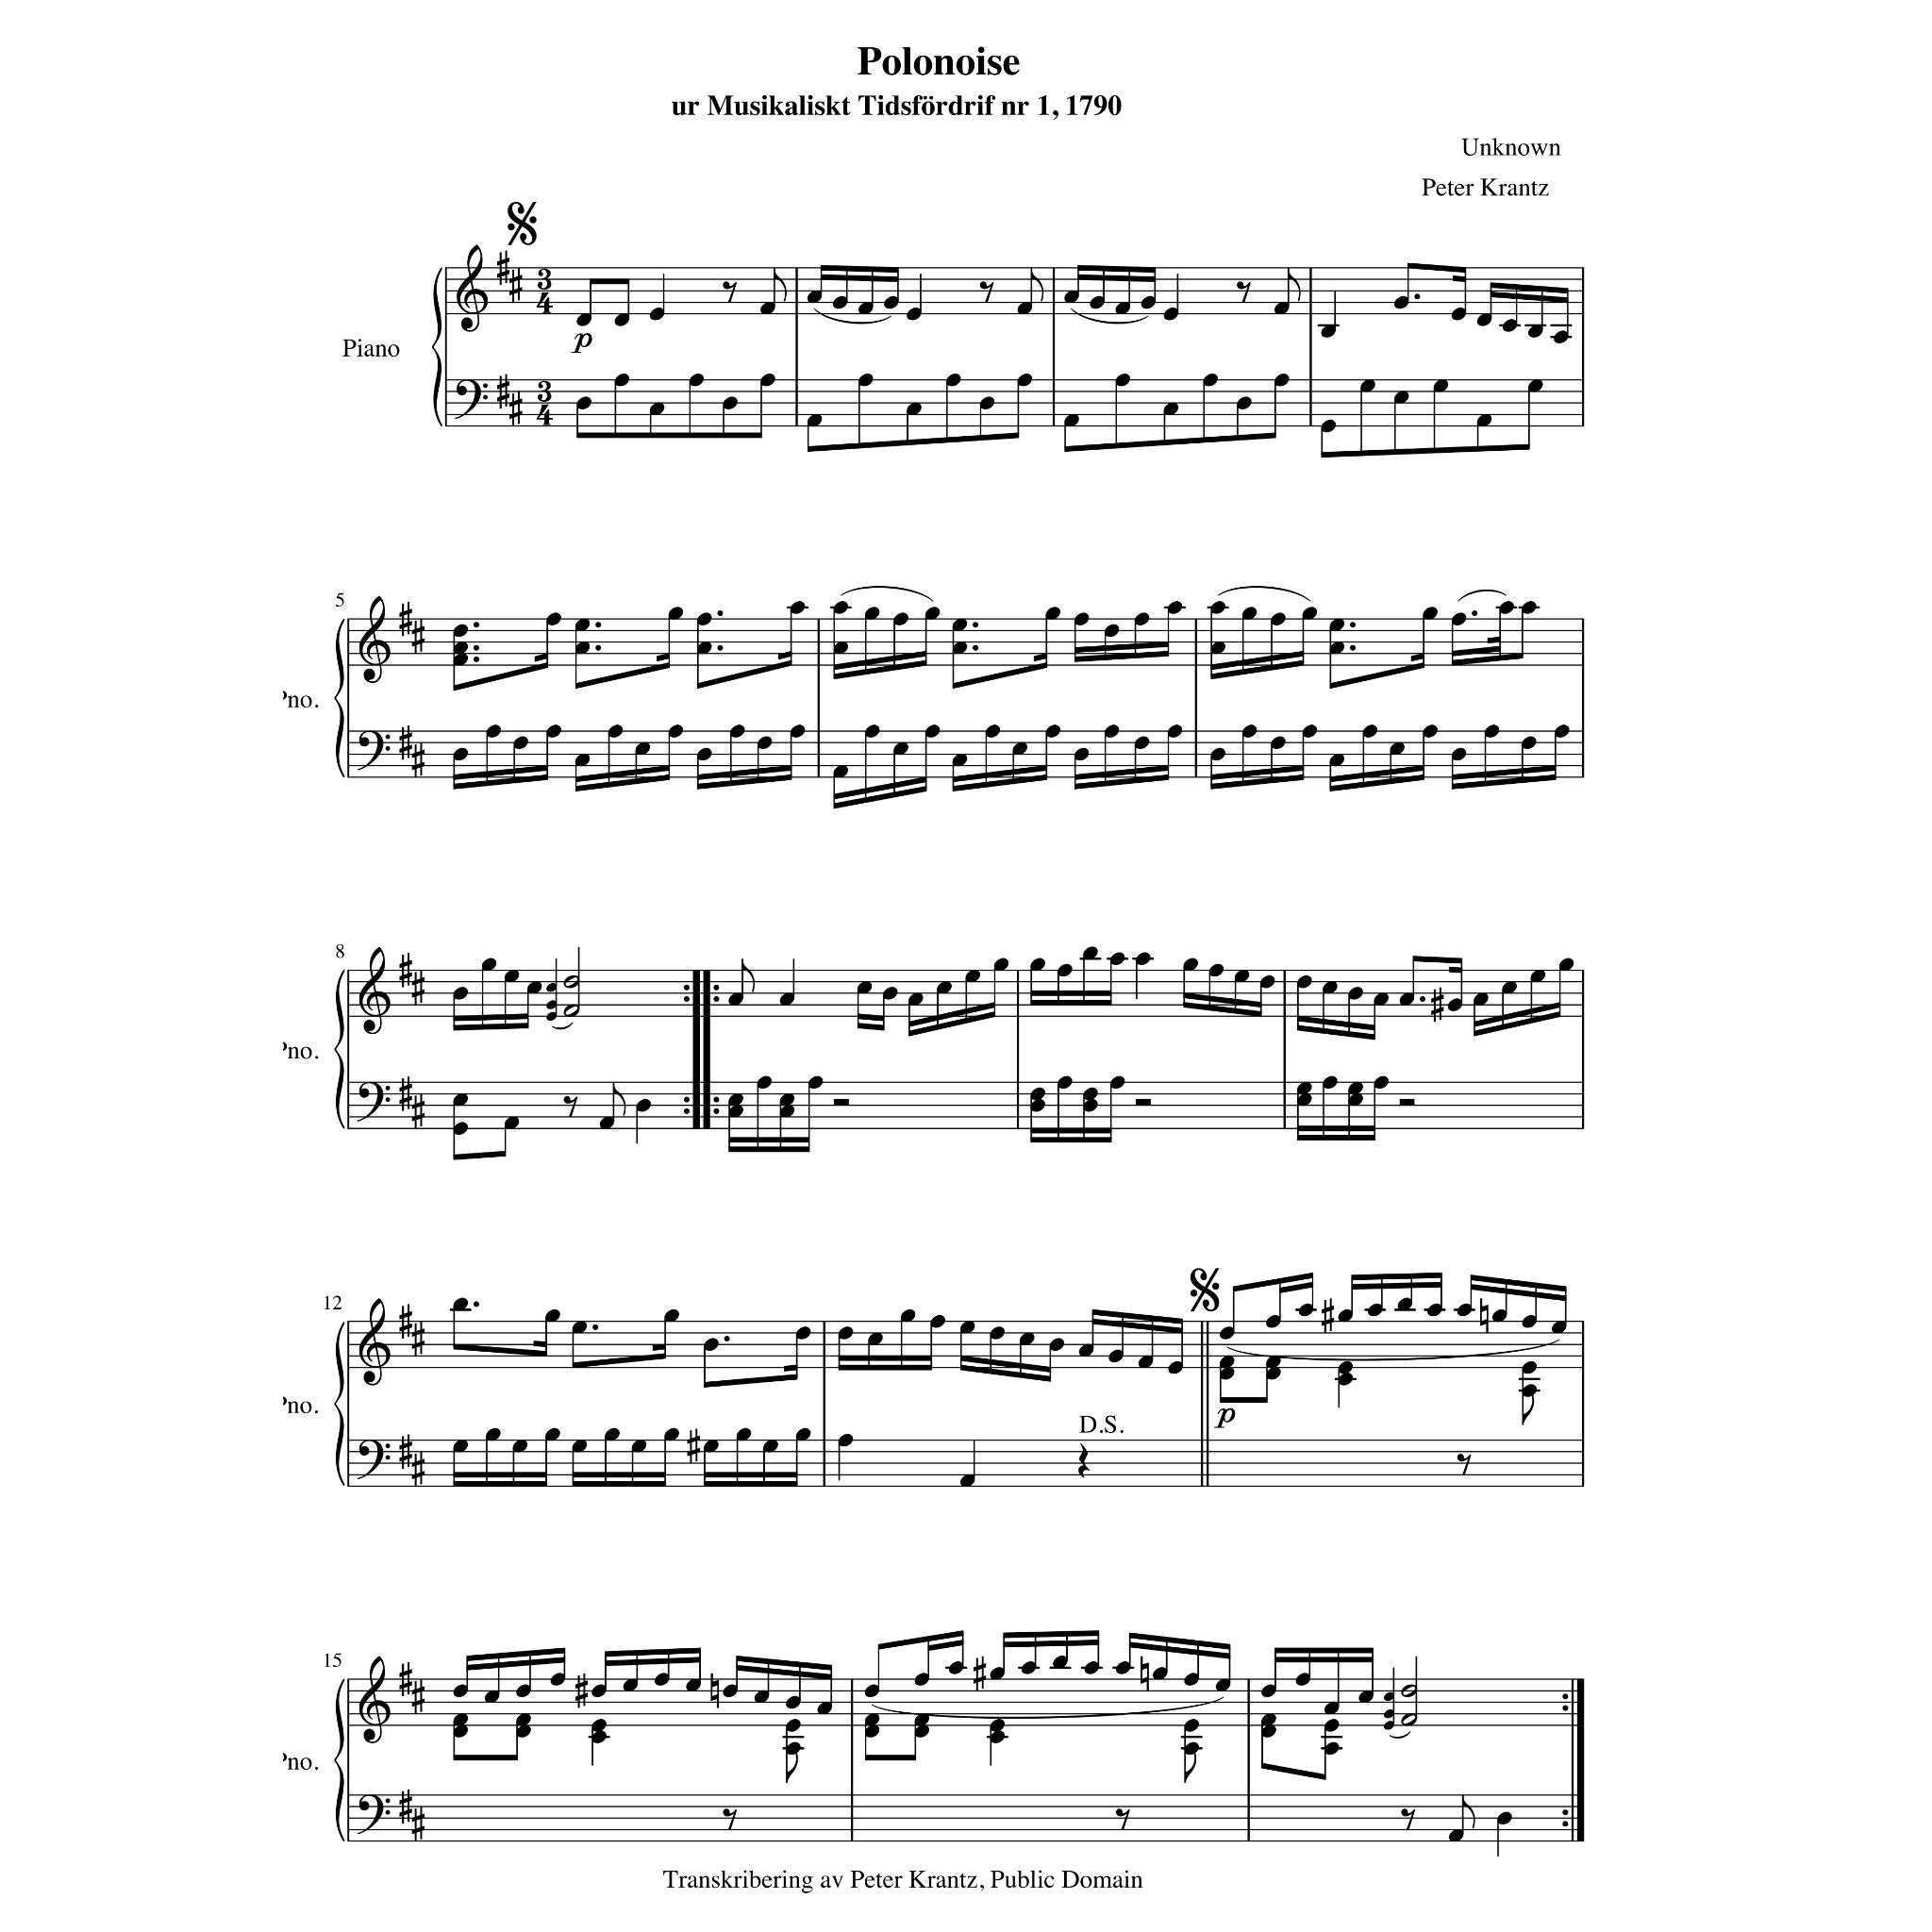brace: (333, 1322, 345, 1486), (333, 1679, 345, 1842), (333, 617, 345, 778), (333, 970, 345, 1131), (432, 267, 442, 428)
fClef: (453, 380, 488, 421), (357, 731, 391, 771), (357, 1081, 391, 1122), (357, 1438, 391, 1479), (357, 1794, 391, 1835)
flag8thDown: (1522, 1391, 1534, 1426), (1184, 1750, 1196, 1783), (786, 1750, 798, 1783)
flag8thUp: (773, 267, 787, 303), (1030, 267, 1044, 303), (741, 959, 755, 993), (1461, 1796, 1476, 1829), (1288, 267, 1300, 303), (614, 1083, 626, 1116)
gClef: (359, 594, 391, 685), (456, 244, 488, 333), (359, 947, 391, 1035), (359, 1299, 391, 1387), (359, 1656, 391, 1744)
noteheadBlack: (759, 373, 777, 387), (573, 619, 591, 633), (545, 612, 563, 626), (502, 970, 520, 984), (929, 1315, 947, 1329), (816, 1702, 833, 1716), (1274, 373, 1290, 387), (1237, 396, 1253, 410), (1203, 373, 1219, 387), (1320, 419, 1336, 433), (1090, 295, 1106, 310), (1115, 373, 1131, 387), (1139, 295, 1155, 310), (1527, 379, 1543, 393), (1502, 318, 1518, 333), (1553, 331, 1569, 345), (1392, 391, 1408, 405), (1392, 295, 1408, 310), (1361, 379, 1376, 393), (1476, 414, 1491, 428), (722, 396, 738, 410), (688, 373, 704, 387), (807, 290, 823, 304), (807, 414, 823, 428), (614, 373, 630, 387), (978, 396, 994, 410), (947, 373, 962, 387), (1063, 414, 1079, 428), (1063, 290, 1079, 304), (1017, 373, 1033, 387), (832, 295, 847, 310), (858, 373, 874, 387), (883, 295, 899, 310), (1012, 741, 1028, 755), (1270, 736, 1286, 750), (1270, 612, 1286, 626), (1240, 607, 1256, 621), (1302, 607, 1318, 621), (1074, 612, 1090, 626), (1046, 607, 1062, 621), (1134, 736, 1150, 750), (1134, 612, 1150, 626), (1520, 736, 1536, 750), (1389, 741, 1405, 755), (1329, 619, 1345, 633), (1451, 612, 1467, 626), (1422, 607, 1438, 621), (635, 741, 651, 755), (695, 612, 711, 626), (667, 607, 683, 621), (513, 736, 529, 750), (924, 607, 939, 621), (893, 741, 909, 755), (893, 612, 909, 626), (863, 607, 879, 621), (952, 619, 968, 633), (833, 764, 849, 778), (755, 736, 771, 750), (1233, 970, 1249, 984), (1260, 975, 1276, 989), (1182, 957, 1198, 971), (1295, 975, 1311, 989), (1083, 1099, 1099, 1113), (1083, 947, 1099, 961), (1056, 1076, 1072, 1090), (1109, 1076, 1125, 1090), (1530, 970, 1546, 984), (1559, 957, 1575, 971), (1348, 985, 1364, 1000), (1322, 1076, 1338, 1090), (1373, 1076, 1389, 1090), (635, 1099, 651, 1113), (453, 985, 469, 1000), (481, 957, 497, 971), (964, 970, 980, 984), (881, 985, 897, 1000), (1030, 1099, 1046, 1113), (1030, 957, 1046, 971), (993, 957, 1008, 971), (778, 1104, 794, 1118), (755, 1076, 771, 1090), (807, 1076, 823, 1090), (1219, 1355, 1235, 1369), (1265, 1355, 1281, 1369), (1265, 1315, 1281, 1329), (1049, 1338, 1065, 1352), (1168, 1361, 1184, 1375), (1138, 1355, 1154, 1369), (1552, 1320, 1568, 1334), (1522, 1361, 1537, 1375), (1522, 1384, 1537, 1398), (1522, 1315, 1537, 1329), (1396, 1297, 1412, 1311), (1338, 1361, 1353, 1375), (1338, 1309, 1353, 1323), (1491, 1309, 1507, 1323), (571, 1320, 587, 1334), (545, 1428, 561, 1442), (663, 1428, 679, 1442), (545, 1309, 561, 1323), (663, 1309, 679, 1323), (453, 1297, 469, 1311), (485, 1428, 501, 1442), (837, 1433, 853, 1447), (961, 1474, 977, 1488), (961, 1320, 977, 1334), (899, 1309, 915, 1323), (736, 1428, 752, 1442), (794, 1428, 810, 1442), (1184, 1718, 1200, 1732), (1184, 1741, 1200, 1755), (1184, 1672, 1200, 1686), (1152, 1667, 1168, 1681), (1260, 1713, 1276, 1727), (1021, 1661, 1037, 1675), (989, 1718, 1005, 1732), (989, 1730, 1005, 1744), (989, 1667, 1005, 1681), (948, 1661, 964, 1675), (1083, 1661, 1099, 1675), (1115, 1661, 1131, 1675), (1497, 1810, 1513, 1824), (1323, 1718, 1339, 1732), (1323, 1741, 1339, 1755), (1323, 1702, 1339, 1716), (1295, 1672, 1311, 1686), (591, 1718, 607, 1732), (591, 1730, 607, 1744), (550, 1672, 566, 1686), (653, 1672, 669, 1686), (515, 1713, 531, 1727), (453, 1713, 469, 1727), (913, 1672, 929, 1686), (863, 1713, 879, 1727), (913, 1713, 929, 1727), (784, 1718, 800, 1732), (784, 1741, 800, 1755), (759, 303, 777, 315), (1483, 725, 1500, 738), (573, 754, 591, 766), (573, 642, 591, 655), (545, 725, 563, 738), (1398, 993, 1415, 1005), (502, 1116, 520, 1129), (630, 1440, 648, 1453), (1214, 1679, 1231, 1691), (1433, 379, 1447, 393), (577, 396, 591, 410), (1447, 998, 1461, 1012), (729, 1104, 743, 1118), (605, 1428, 619, 1442), (704, 1338, 718, 1352), (1274, 303, 1290, 315), (1320, 326, 1336, 338), (1115, 303, 1131, 315), (1162, 403, 1178, 416), (1162, 308, 1178, 320), (1527, 326, 1543, 338), (1476, 313, 1491, 326), (1451, 308, 1467, 320), (649, 403, 665, 416), (614, 313, 630, 326), (649, 308, 665, 320), (906, 403, 922, 416), (906, 308, 922, 320), (1017, 303, 1033, 315), (858, 303, 874, 315), (1302, 725, 1318, 738), (1210, 748, 1226, 761), (1210, 602, 1226, 614), (1210, 642, 1226, 655), (1240, 725, 1256, 738), (1104, 625, 1120, 637), (1074, 748, 1090, 761), (1104, 725, 1120, 738), (1046, 725, 1062, 738), (1166, 725, 1182, 738), (1166, 602, 1182, 614), (1553, 725, 1569, 738), (1520, 602, 1536, 614), (1499, 602, 1514, 614), (1362, 725, 1378, 738), (1329, 754, 1345, 766), (1329, 642, 1345, 655), (1451, 748, 1467, 761), (1422, 725, 1438, 738), (607, 725, 623, 738), (729, 725, 745, 738), (695, 748, 711, 761), (695, 642, 711, 655), (667, 725, 683, 738), (453, 748, 469, 761), (453, 625, 469, 637), (453, 642, 469, 655), (453, 653, 469, 665), (485, 725, 501, 738), (924, 725, 939, 738), (863, 725, 879, 738), (984, 725, 1000, 738), (952, 754, 968, 766), (952, 642, 968, 655), (833, 602, 849, 614), (833, 642, 849, 655), (789, 725, 805, 738), (789, 602, 805, 614), (1208, 964, 1224, 977), (1295, 1083, 1311, 1095), (1295, 1093, 1311, 1106), (1083, 1088, 1099, 1100), (1056, 964, 1072, 977), (1134, 954, 1150, 966), (1109, 954, 1125, 966), (1502, 982, 1518, 994), (1474, 993, 1490, 1005), (1348, 1083, 1364, 1095), (1348, 1093, 1364, 1106), (1322, 982, 1338, 994), (1373, 993, 1389, 1005), (598, 1116, 614, 1129), (525, 982, 541, 994), (453, 1122, 469, 1134), (453, 1093, 469, 1106), (908, 993, 924, 1005), (936, 982, 952, 994), (856, 982, 872, 994), (1030, 1088, 1046, 1100), (778, 1093, 794, 1106), (778, 993, 794, 1005), (1219, 1368, 1235, 1380), (1219, 1327, 1235, 1339), (1297, 1304, 1313, 1316), (1265, 1368, 1281, 1380), (1077, 1345, 1093, 1357), (989, 1327, 1005, 1339), (1108, 1350, 1123, 1362), (1366, 1304, 1382, 1316), (1338, 1373, 1353, 1385), (1456, 1304, 1472, 1316), (1426, 1304, 1442, 1316), (571, 1440, 587, 1453), (511, 1440, 527, 1453), (453, 1440, 469, 1453), (837, 1327, 853, 1339), (867, 1332, 883, 1345), (763, 1440, 778, 1453), (794, 1327, 810, 1339), (1260, 1684, 1276, 1697), (1260, 1725, 1276, 1737), (1051, 1656, 1067, 1668), (1447, 1829, 1463, 1842), (1359, 1691, 1375, 1704), (591, 1684, 607, 1697), (685, 1679, 701, 1691), (623, 1679, 639, 1691), (515, 1725, 531, 1737), (515, 1684, 531, 1697), (483, 1691, 499, 1704), (453, 1725, 469, 1737), (453, 1684, 469, 1697), (863, 1684, 879, 1697), (913, 1725, 929, 1737), (863, 1725, 879, 1737), (722, 1684, 738, 1697), (784, 1697, 800, 1709), (754, 1691, 770, 1704), (577, 313, 591, 326), (729, 1093, 743, 1106), (729, 993, 743, 1005), (1019, 1332, 1033, 1345), (704, 1440, 718, 1453), (545, 1000, 557, 1010), (1384, 1691, 1394, 1702), (1384, 1720, 1394, 1730), (545, 984, 557, 993), (545, 1012, 557, 1021), (1384, 1709, 1394, 1718)
noteheadHalf: (563, 975, 580, 989), (1399, 1713, 1417, 1727), (563, 1005, 580, 1017), (1399, 1684, 1417, 1697)
rest8th: (1235, 281, 1251, 304), (978, 281, 994, 304), (563, 1095, 579, 1118), (1115, 1808, 1131, 1831), (1399, 1808, 1415, 1831), (1456, 1454, 1472, 1476), (722, 281, 736, 304), (722, 1808, 736, 1831)
restHalf: (1398, 1099, 1415, 1106), (1134, 1099, 1150, 1106), (833, 1099, 849, 1106)
restQuarter: (1077, 1442, 1090, 1479)
